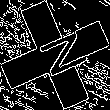N_SW: (24, 26, 86, 84)
